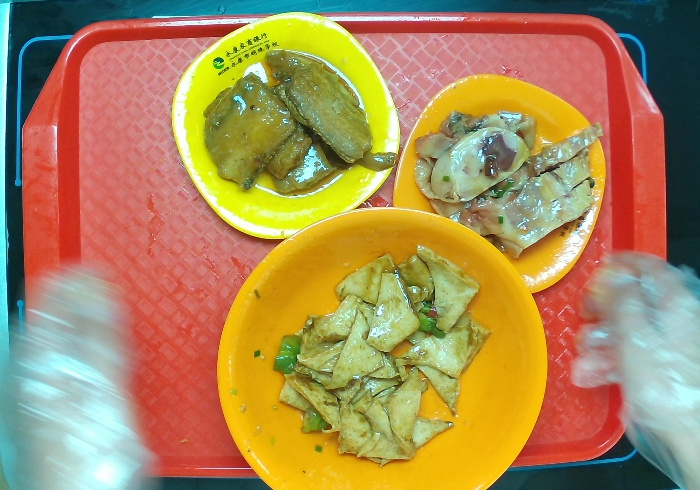YKMZ-Huang_Se_Fang_Die: (171, 10, 401, 238)
YKMZ-Ju_Se_Fang_Die: (390, 70, 607, 290)
YKMZ-Ju_Se_Tang_Wan: (211, 204, 552, 490)
